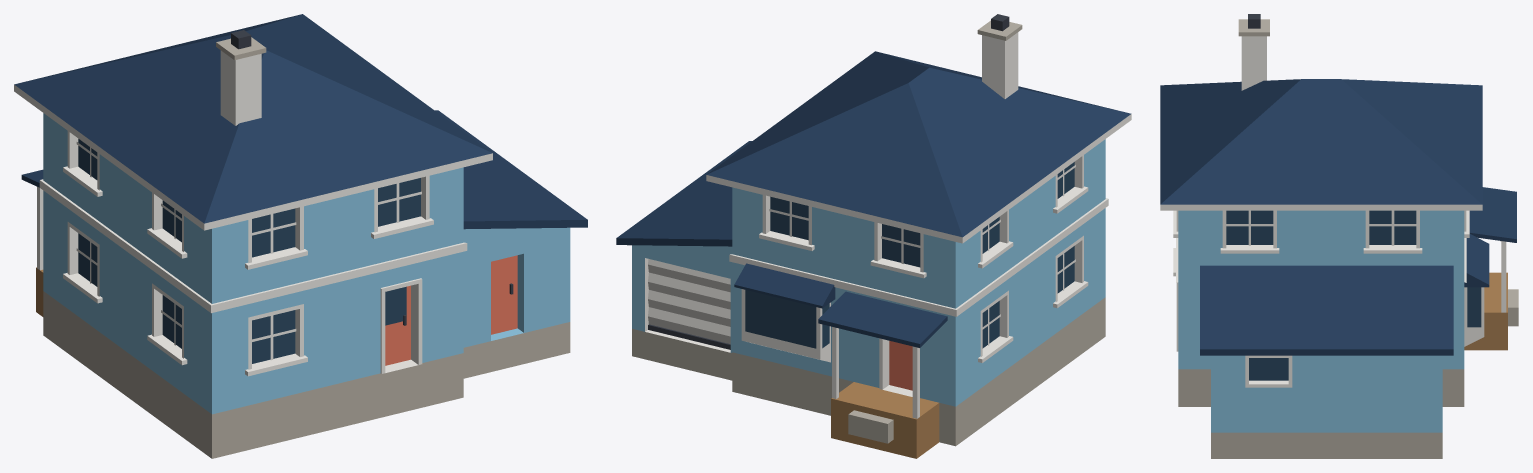
File: house_b.glb
3 renders of one model, left to right at view 1: azimuth 30°, elevation 25°; view 2: azimuth 150°, elevation 25°; view 3: azimuth 270°, elevation 25°, orthographic. The views are drawn at different scales.
Visible parts, largest first — view 1: Building, Building_Glass; view 2: Building, Building_Glass; view 3: Building, Building_Glass.
Boxes of the visible parts, <box> form: Building: <box>14,14,587,458</box>; Building_Glass: <box>78,139,420,363</box>; Building: <box>616,14,1131,458</box>; Building_Glass: <box>745,162,1074,348</box>; Building: <box>1160,14,1518,458</box>; Building_Glass: <box>1226,210,1481,380</box>.
Size of the model in its own units: 11 by 9.65 by 9.9.
